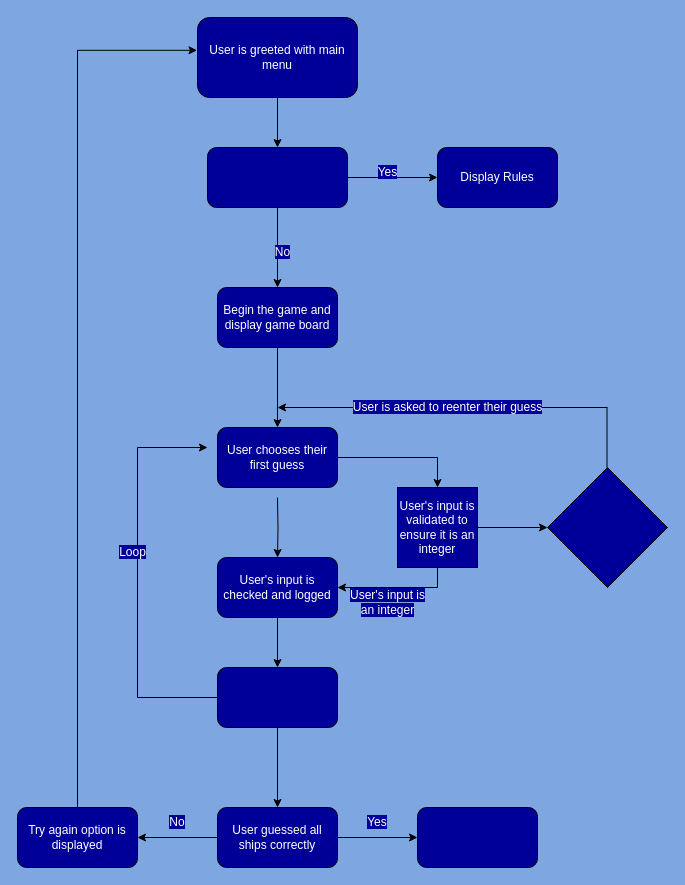
Some shapes in this 685 by 885 pixel diagram are drawn without their labels. The shapes that lost their labels are listed below. From the top down, each one's centre as x and y in pixels, then its label:
At point (277, 177): "User chooses to view rules".
At point (607, 527): "Error non-integer entered".
At point (277, 697): "Outcome of user's guess is displayed as hit or miss".
At point (477, 837): "Congratulations screen is presented".
